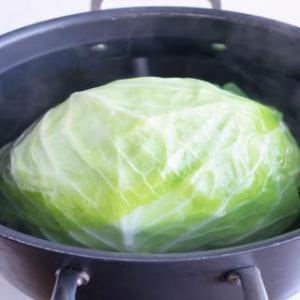cabbage: (0, 74, 300, 252)
